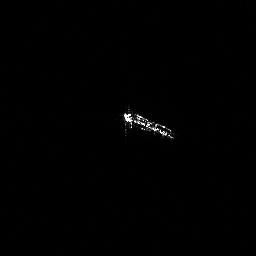ship: (119, 105, 178, 144)
